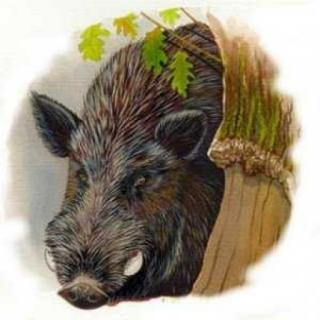Pig: (24, 14, 228, 288)
